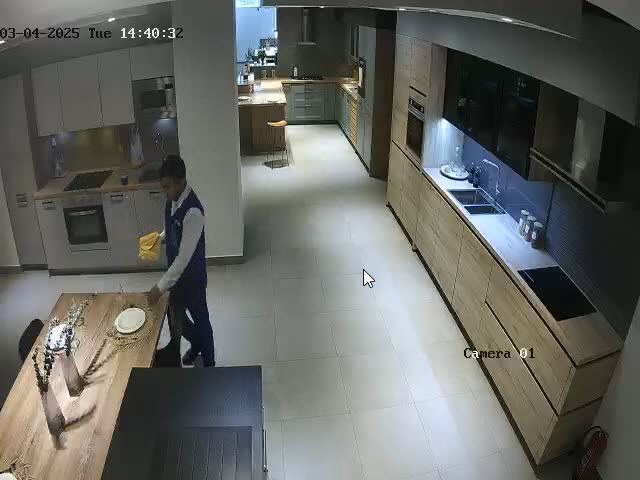employee: (146, 155, 216, 368)
